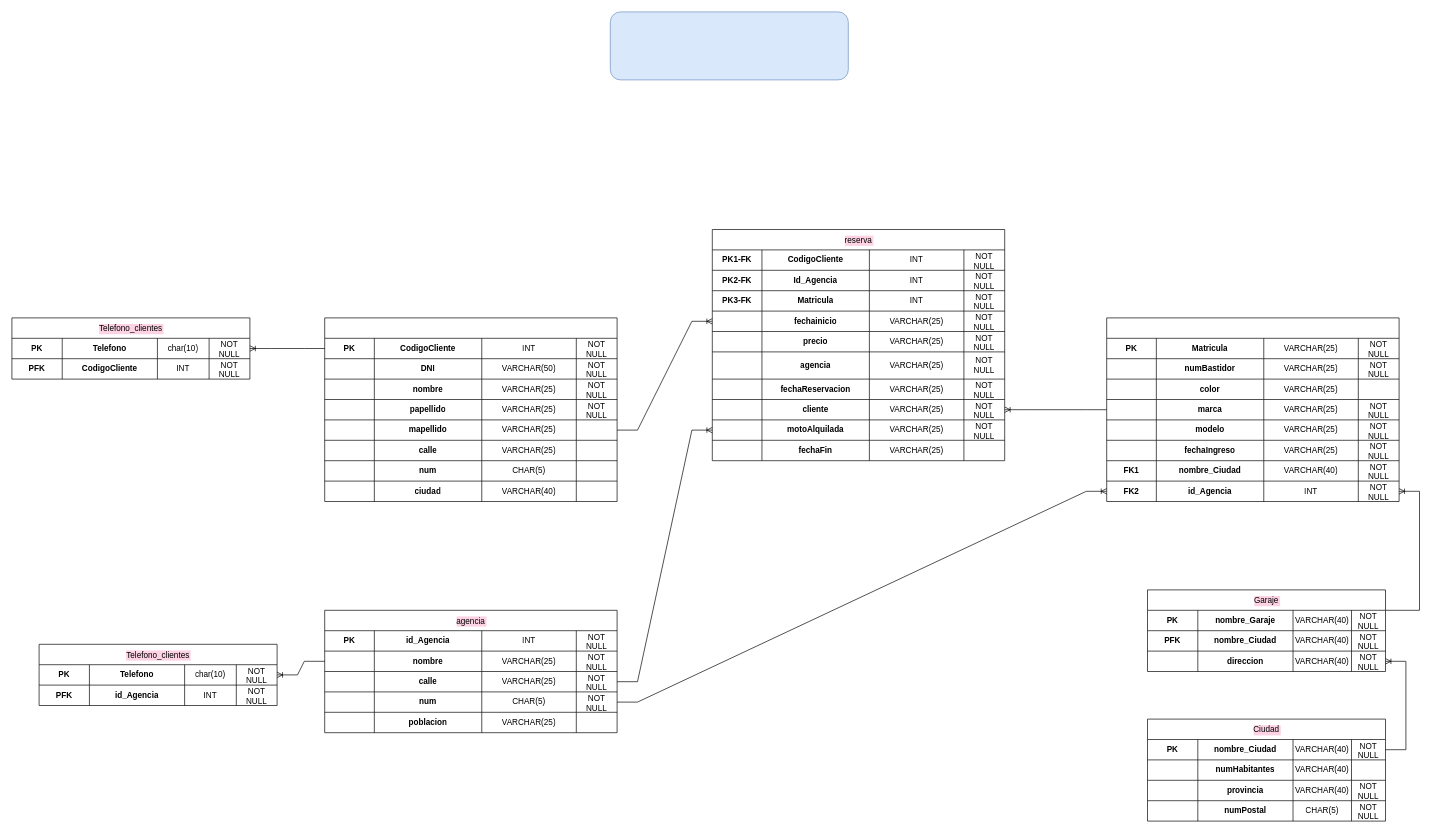
Image size: 1437x833. Some labels were removed from this diagram. Each missing label, with the box of its shape:
clientes: (324, 317, 617, 502)
Diagrama Fisico para la gestion de motocicletas: (610, 11, 848, 80)
motocicleta: (1106, 317, 1399, 502)
